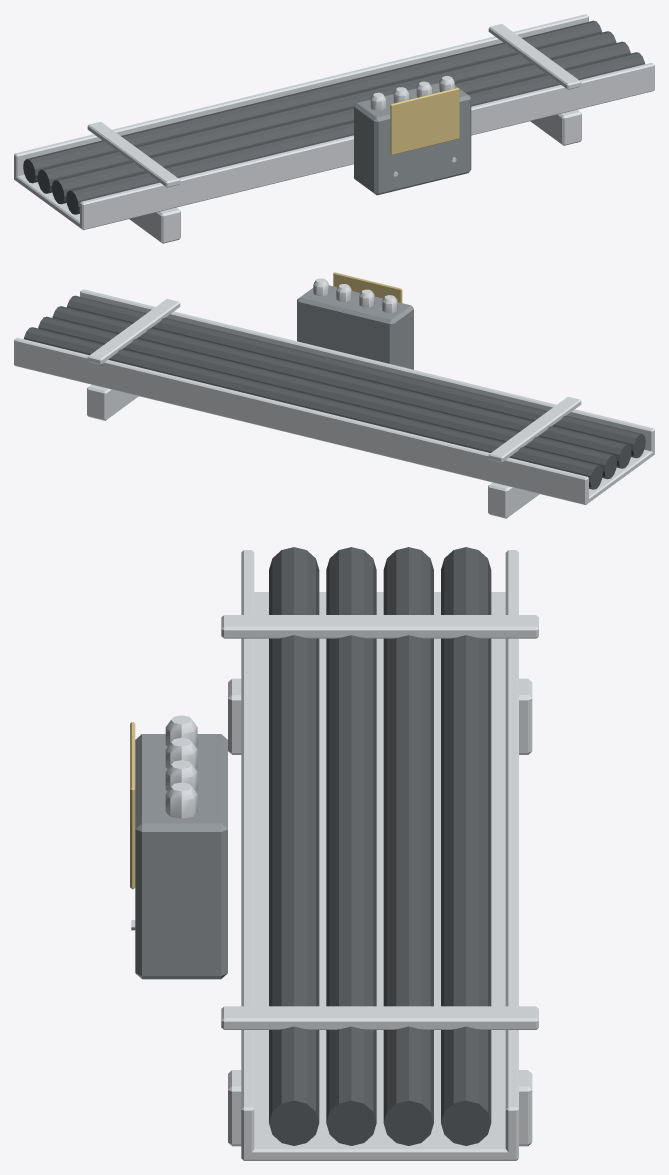
Rendered from submarine-interior-and-control-room-cable-run-and-junc-107628bc__36472.glb.
3 views of the same model, one above another, from view 1: azimuth 30°, elevation 25°; view 2: azimuth 150°, elevation 25°; view 3: azimuth 270°, elevation 25° (orthographic). The views are drawn at different scales.
Parts seen in each view (by area): view 1: cable-run-and-junction-box; view 2: cable-run-and-junction-box; view 3: cable-run-and-junction-box.
Part boxes in pixels (x1=…): cable-run-and-junction-box: x1=14, y1=14, x2=654, y2=243; cable-run-and-junction-box: x1=14, y1=272, x2=654, y2=518; cable-run-and-junction-box: x1=130, y1=547, x2=538, y2=1160.
Size of the model in its own units: 2 by 0.3621 by 0.618.
